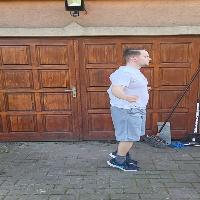jumping_jacks: (101, 44, 167, 167)
